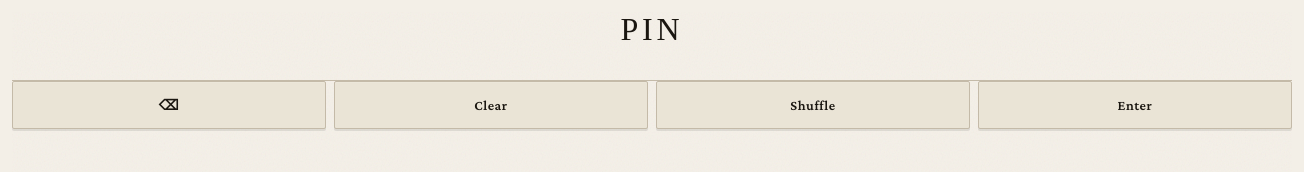
it: ActionRow — button dispatches › Clear button empties currentWord
Click the button with aria-label "Clear word" at (491, 105), box [334, 81, 648, 129]
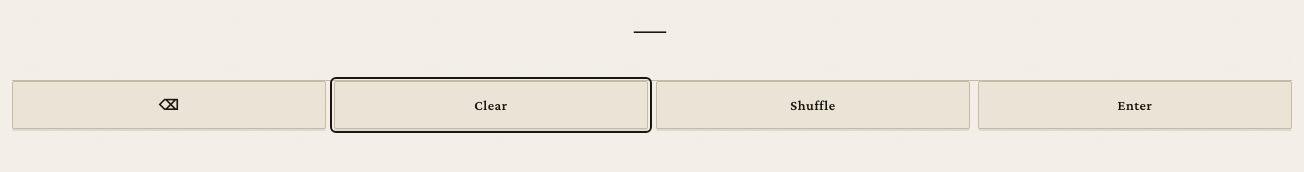
expect the text "—" is shown: met, box [634, 11, 670, 47]
